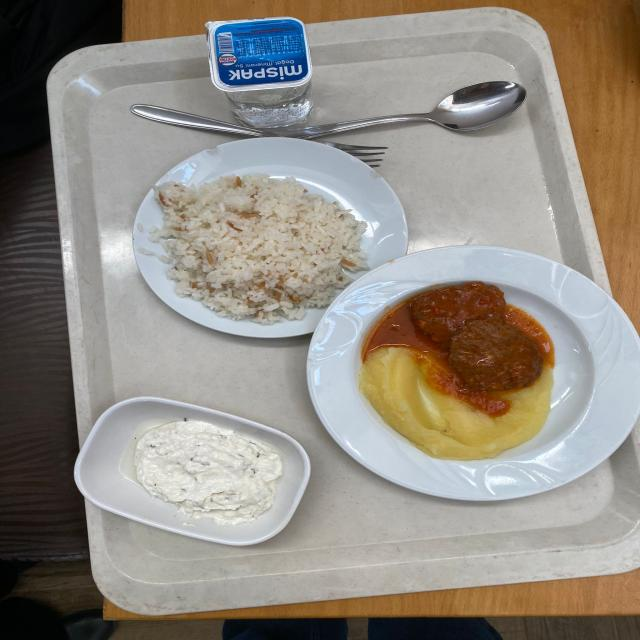ana_yemek: (322, 256, 618, 508), (136, 144, 388, 333)
yan_yemek: (72, 397, 310, 548)
